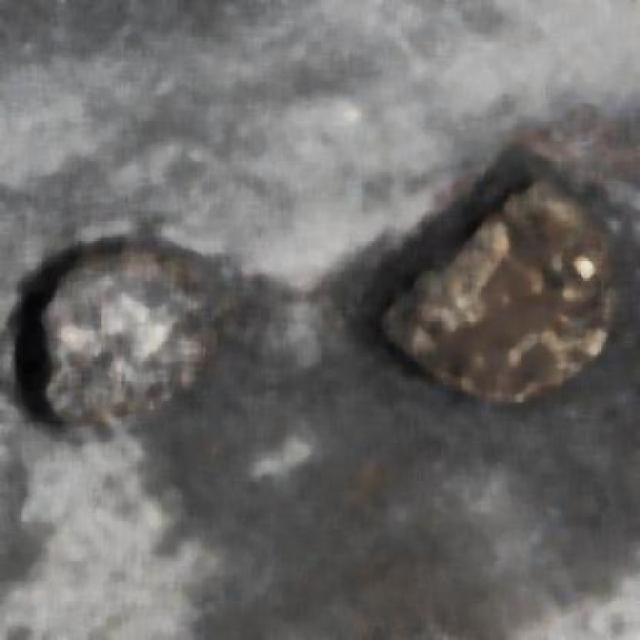Pothole: (346, 146, 617, 400), (11, 237, 212, 425)
